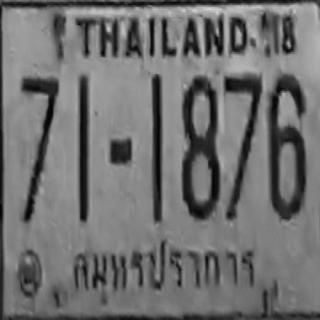N01: (76, 74, 89, 204), (150, 74, 162, 204)
N06: (267, 73, 306, 220)
N07: (223, 73, 261, 220), (20, 74, 59, 217)
N08: (180, 74, 220, 219)
P57: (74, 235, 262, 299)
